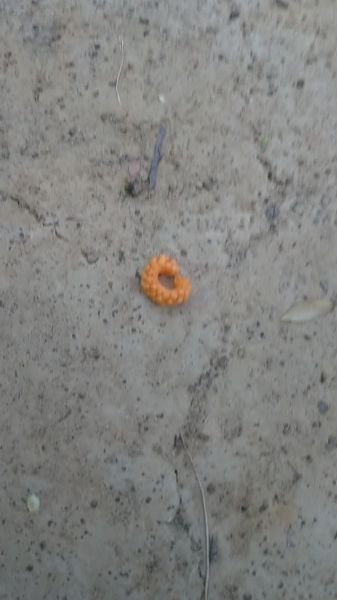eggs: (133, 249, 196, 310)
